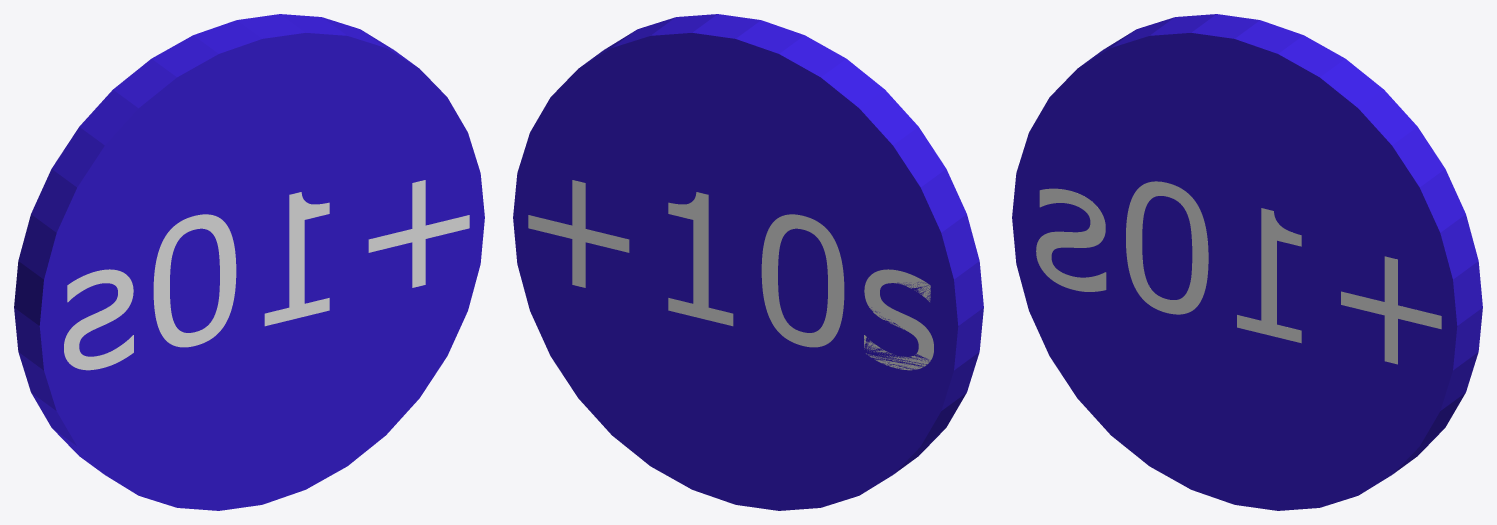
Rendered from timeBonus.fbx.
3 renders of one model, left to right at view 1: azimuth 30°, elevation 25°; view 2: azimuth 150°, elevation 25°; view 3: azimuth 330°, elevation 25°, orthographic.
Parts seen in each view (by area): view 1: Circle, Text; view 2: Circle, Text; view 3: Circle, Text.
Part boxes in pixels (x1,y1,x2,y2): Circle: [14, 14, 484, 510]; Text: [64, 180, 469, 370]; Circle: [513, 14, 983, 510]; Text: [528, 180, 933, 370]; Circle: [1012, 14, 1482, 510]; Text: [1036, 181, 1441, 364].
Bounding box in the file's own units: 100 × 100 × 10.
